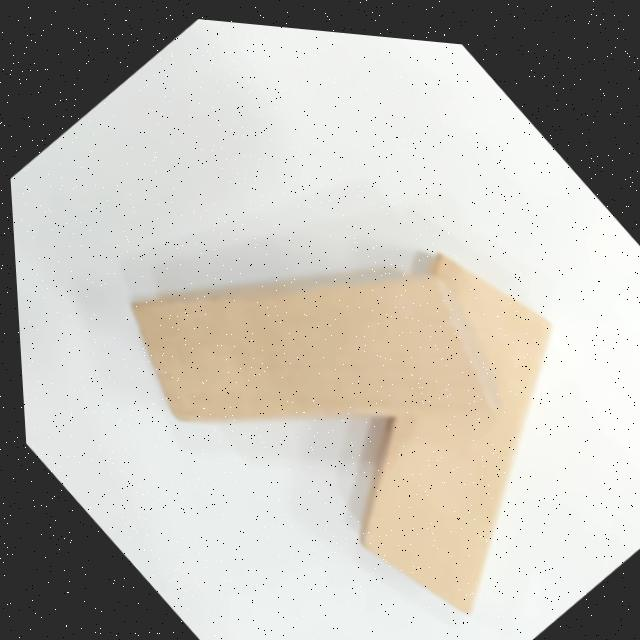Jenga: (81, 115, 543, 588), (231, 199, 640, 640)
